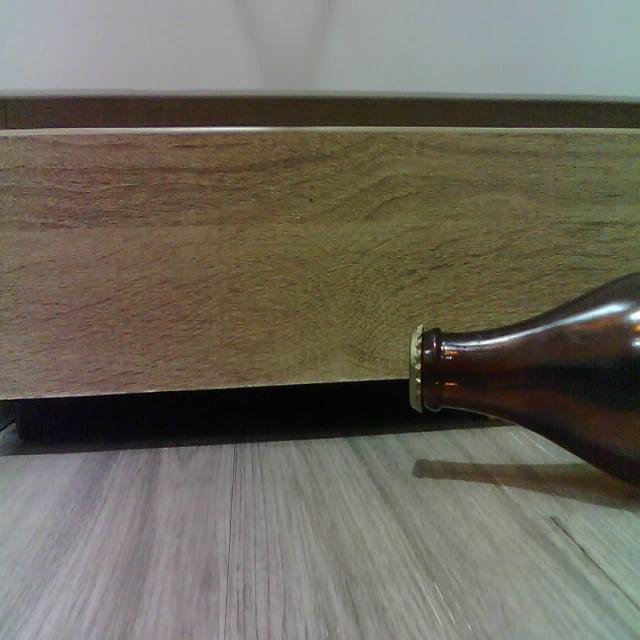bottle: (410, 272, 640, 484)
